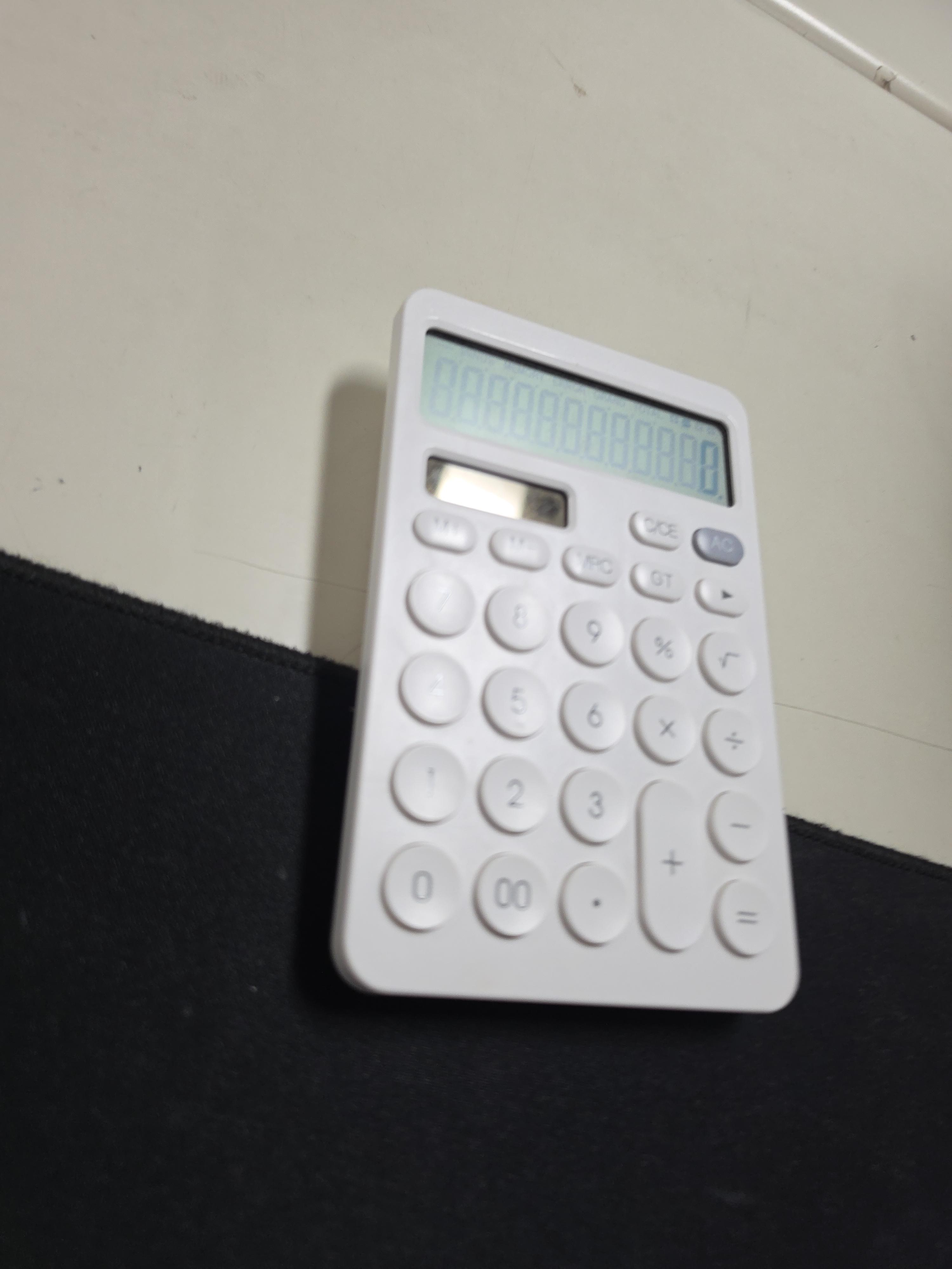calculator: (329, 286, 802, 1016)
